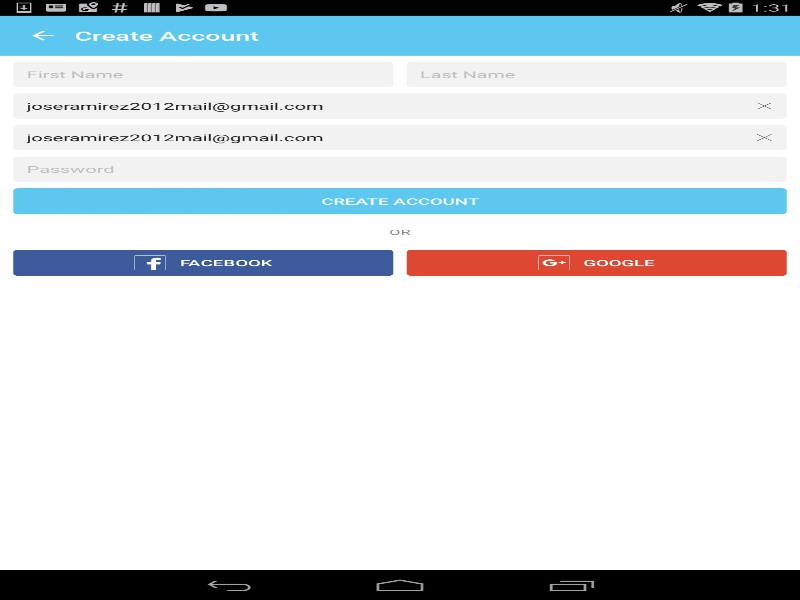Button: (0, 18, 74, 53)
Input: (13, 93, 786, 118), (13, 125, 786, 150), (13, 156, 786, 181), (13, 61, 393, 87), (406, 61, 786, 87)
